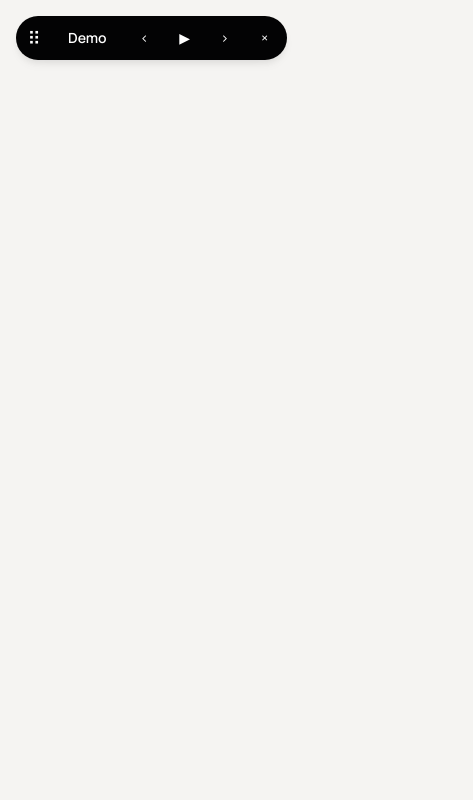
Scenario: DemoGuide › Automático troca sozinho: escolhe o intervalo (5, 10 ou 20 s) e marca a pessoa de agora
What coordinates should you click on to do the following:
click the button "Demo"
I would click on:
 (87, 38)
Its box is [52,20,123,56].
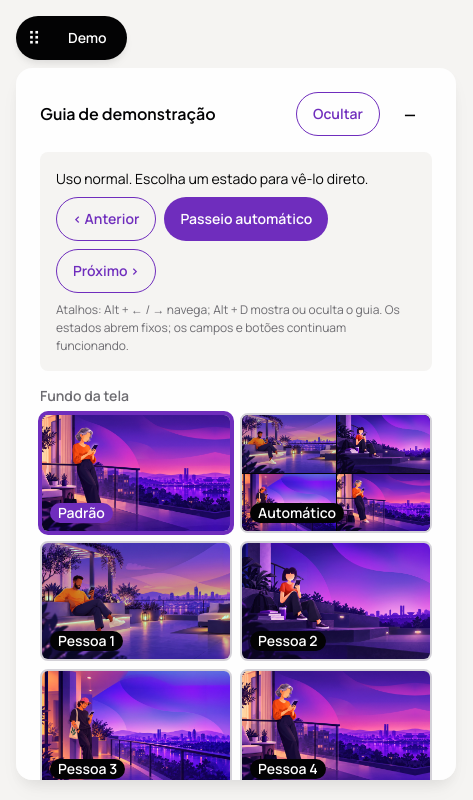
expect the element "Trocar a cada" is not shown: met
What coordinates should you click on to do the following:
click the button "Automático"
I would click on:
 (336, 473)
Its box is [240,413,432,533].
(page scrolled)
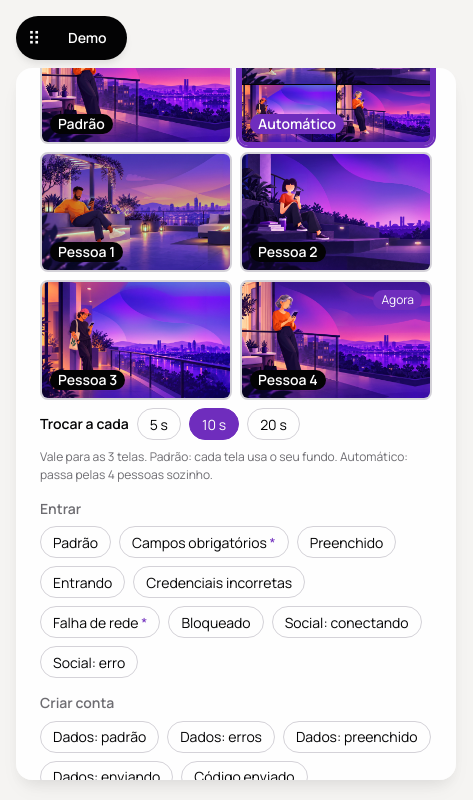
expect the buttons read "5 s", "10 s", "20 s", in this order: met
What coordinates should you click on to do the following:
click the button "5 s"
I would click on:
 (159, 424)
Its box is [137,408,181,440].
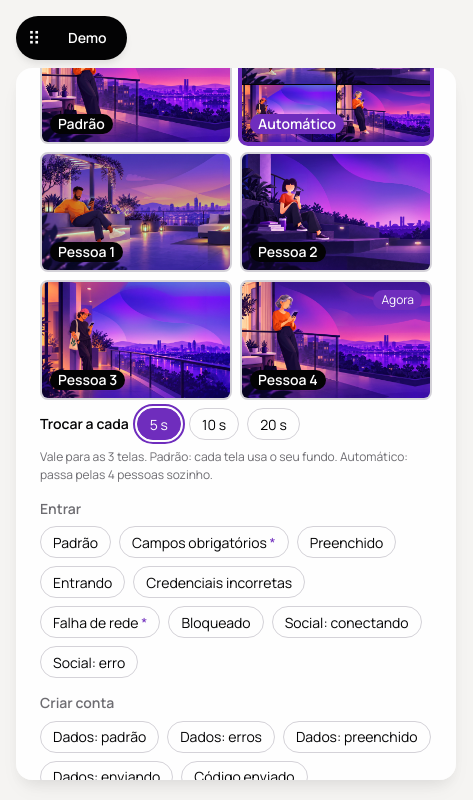
expect the button "5 s" is pressed: met, box [137,408,181,440]
expect the button "10 s" is not pressed: met, box [189,408,239,440]
# Fixar uma pessoa encerra o rodízio e esconde o intervalo.
What coordinates should you click on to do the following:
click the button "Pessoa 2"
I would click on:
 (336, 212)
Its box is [240,152,432,272].
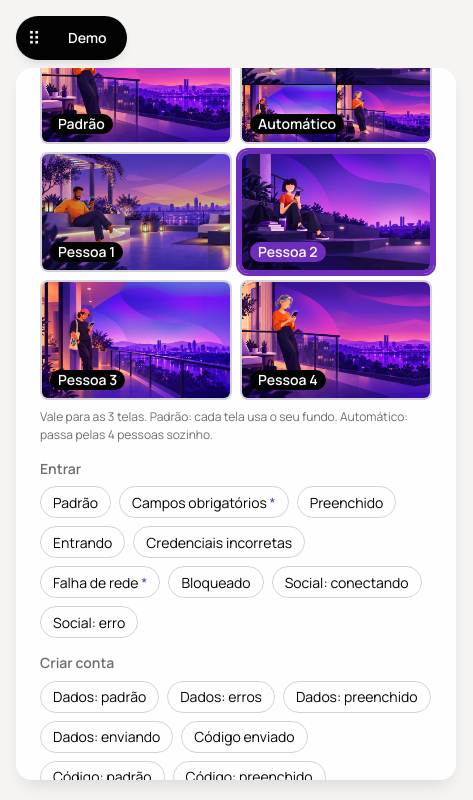
expect the text "Trocar a cada" is gone: met
